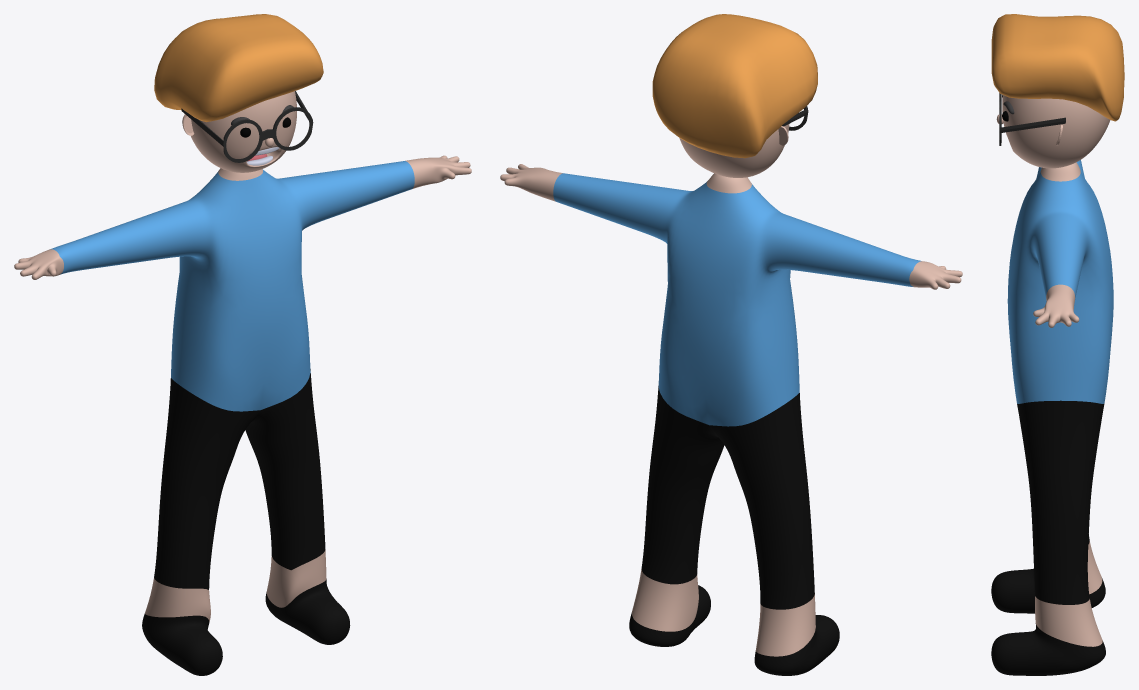
Rendered from myCharacter.glb.
The picture shows the model from 3 angles, left to right: view 1: azimuth 30°, elevation 25°; view 2: azimuth 150°, elevation 25°; view 3: azimuth 270°, elevation 25°; orthographic projection.
Parts seen in each view (by area): view 1: Cube.007; view 2: Cube.007; view 3: Cube.007.
Part boxes in pixels (box(x1,y1,x2,y2)): Cube.007: box(14, 14, 471, 675); Cube.007: box(500, 14, 962, 675); Cube.007: box(991, 14, 1124, 675).
Bounding box in the file's own units: 2.13 × 2.78 × 0.544.
